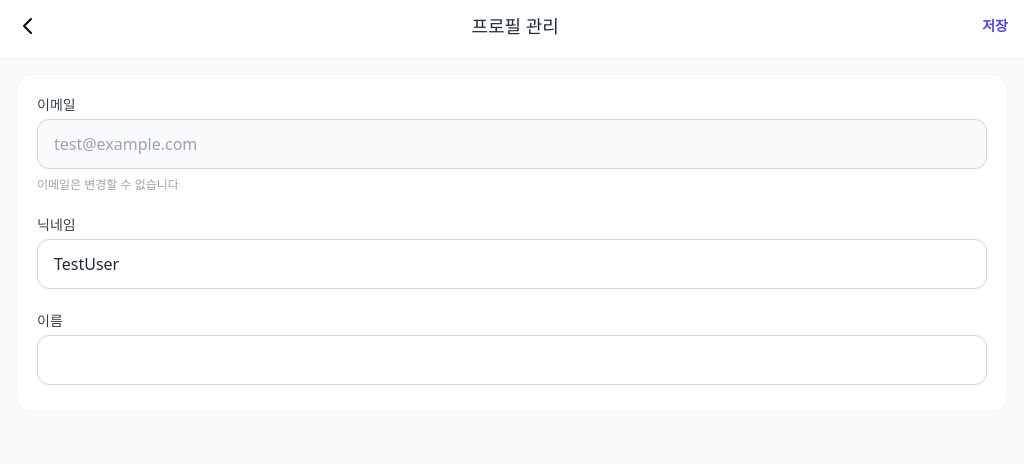
Settings Profile Flow - Integration Test › Error State › should show error toast when save fails
Replace the text in the field with test id "profile-nickname" with "NewNick": (512, 264) [37,239,987,289]
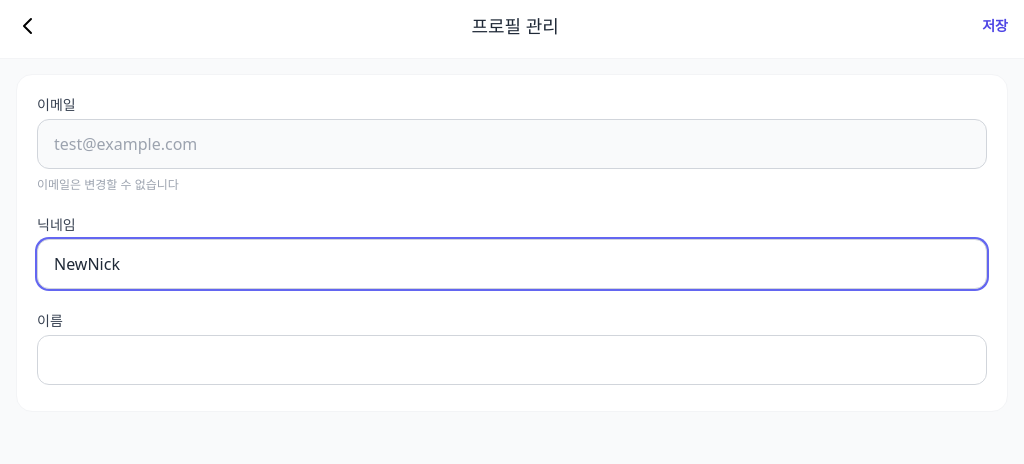
Click the button "저장": click(995, 26) [982,16,1008,36]
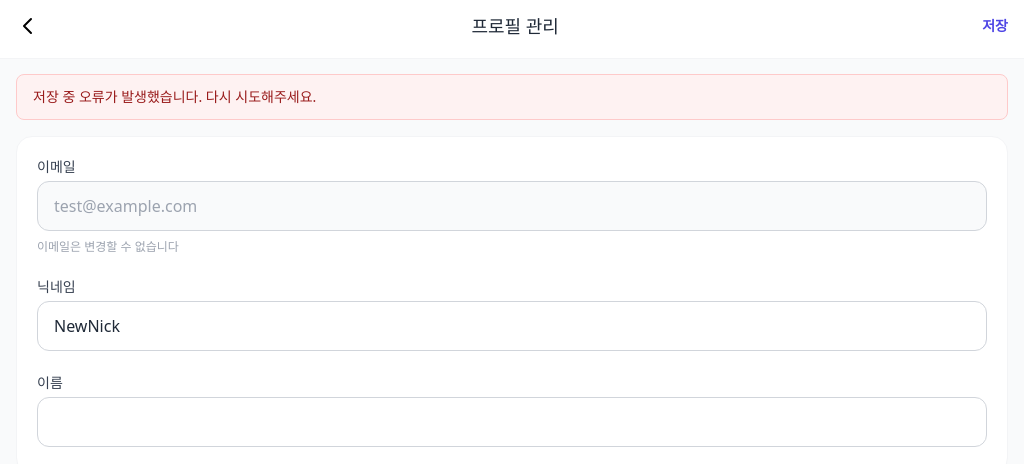
Result: the text "저장 중 오류가 발생했습니다. 다시 시도해주세요." is shown at [16,74,1008,120]
